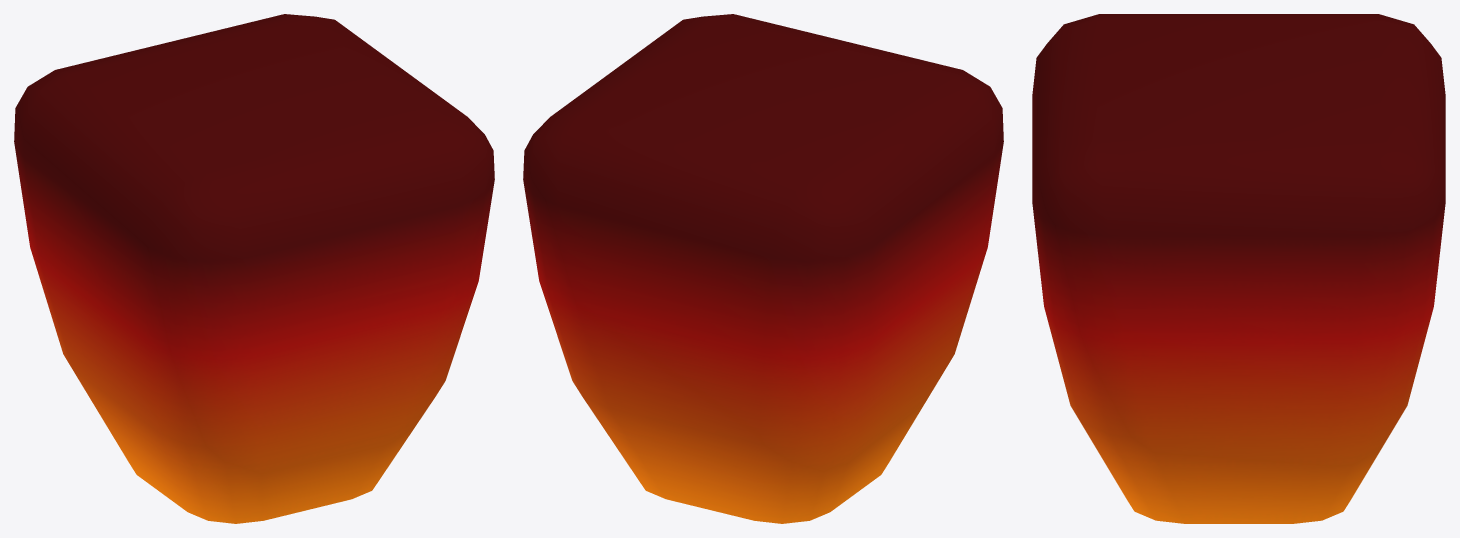
File: flyLight.glb
The picture shows the model from 3 angles, left to right: view 1: azimuth 30°, elevation 25°; view 2: azimuth 150°, elevation 25°; view 3: azimuth 270°, elevation 25°; orthographic projection. The views are drawn at different scales.
Visible parts, largest first — view 1: Cube; view 2: Cube; view 3: Cube.
Part boxes in pixels (x1,y1,x2,y2): Cube: [14, 14, 494, 523]; Cube: [523, 14, 1003, 523]; Cube: [1032, 14, 1445, 523].
Size of the model in its own units: 0.189 by 0.2 by 0.189.
Materials: 1 (1 with a texture image).
